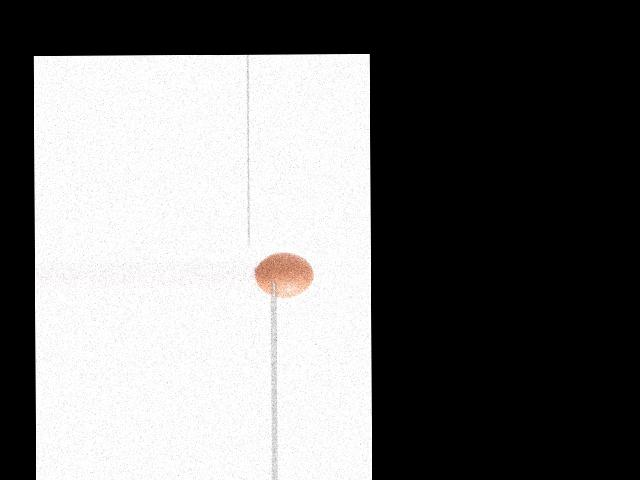egg: (256, 252, 313, 298)
